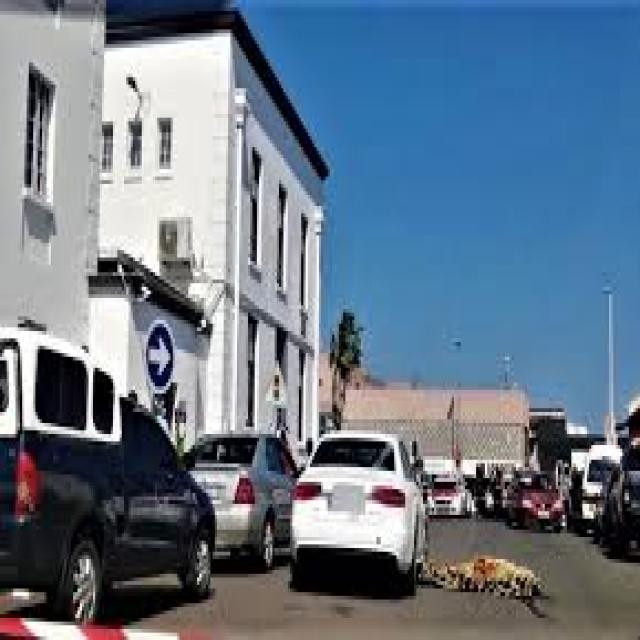Passenger Car: (2, 331, 224, 633), (292, 423, 426, 600), (182, 431, 301, 566), (505, 474, 565, 534), (427, 467, 474, 519)
